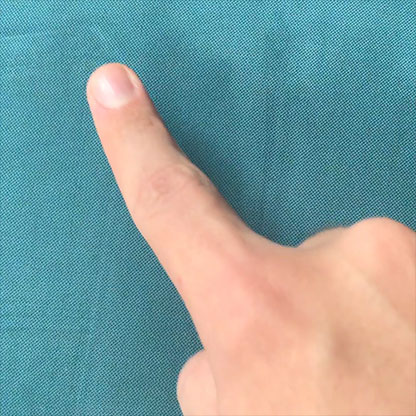fingertip: (70, 54, 154, 120)
